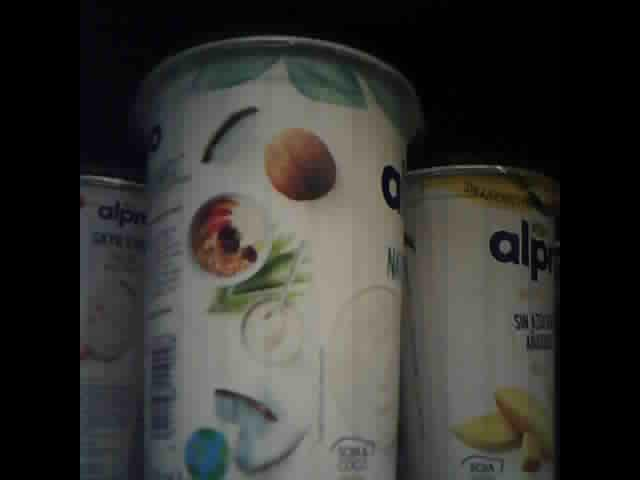alpro: (134, 34, 420, 480), (402, 163, 566, 480), (81, 163, 146, 480)
